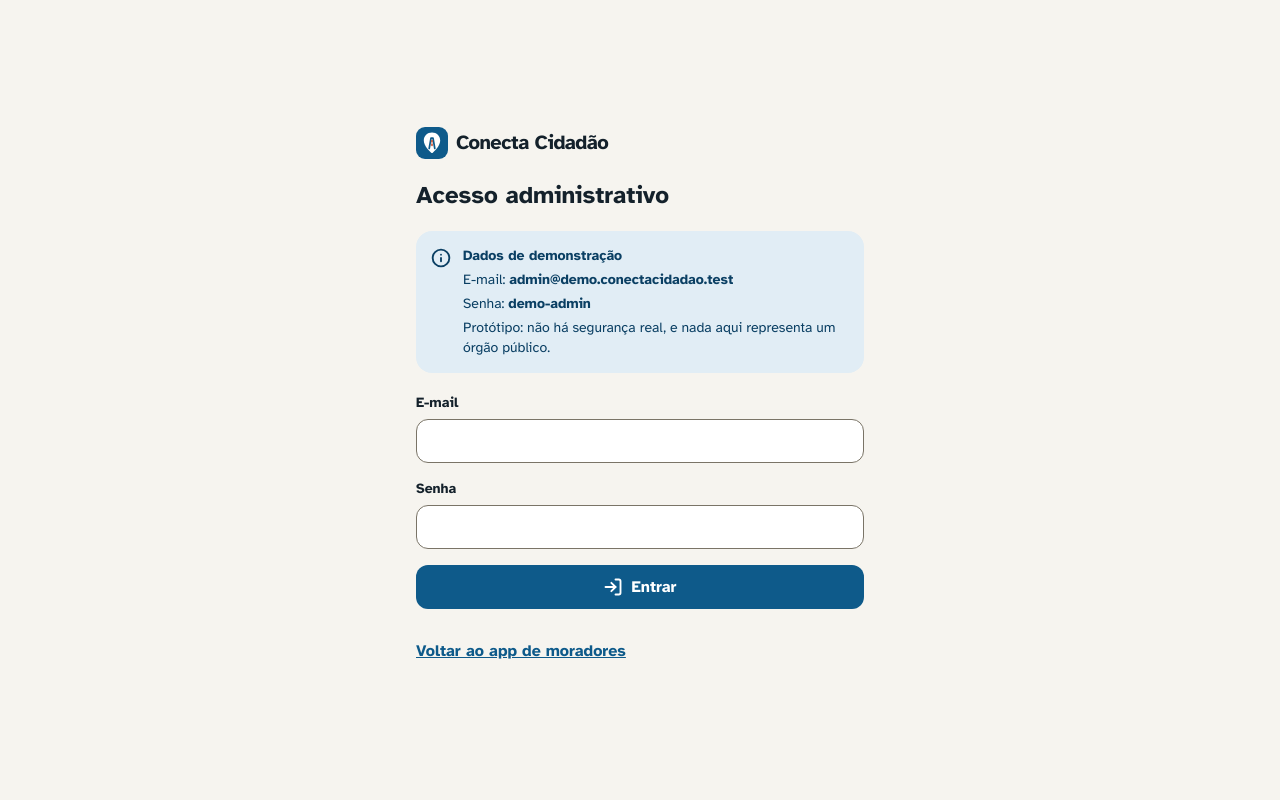
acesso administrativo › senha errada é recusada; senha de demonstração abre o painel; sair volta ao login
In the field labelled "E-mail": (640, 441) [416,419,864,463], type "admin@demo.conectacidadao.test"
In the password field labelled "Senha": (640, 527) [416,505,864,549], type "errada"
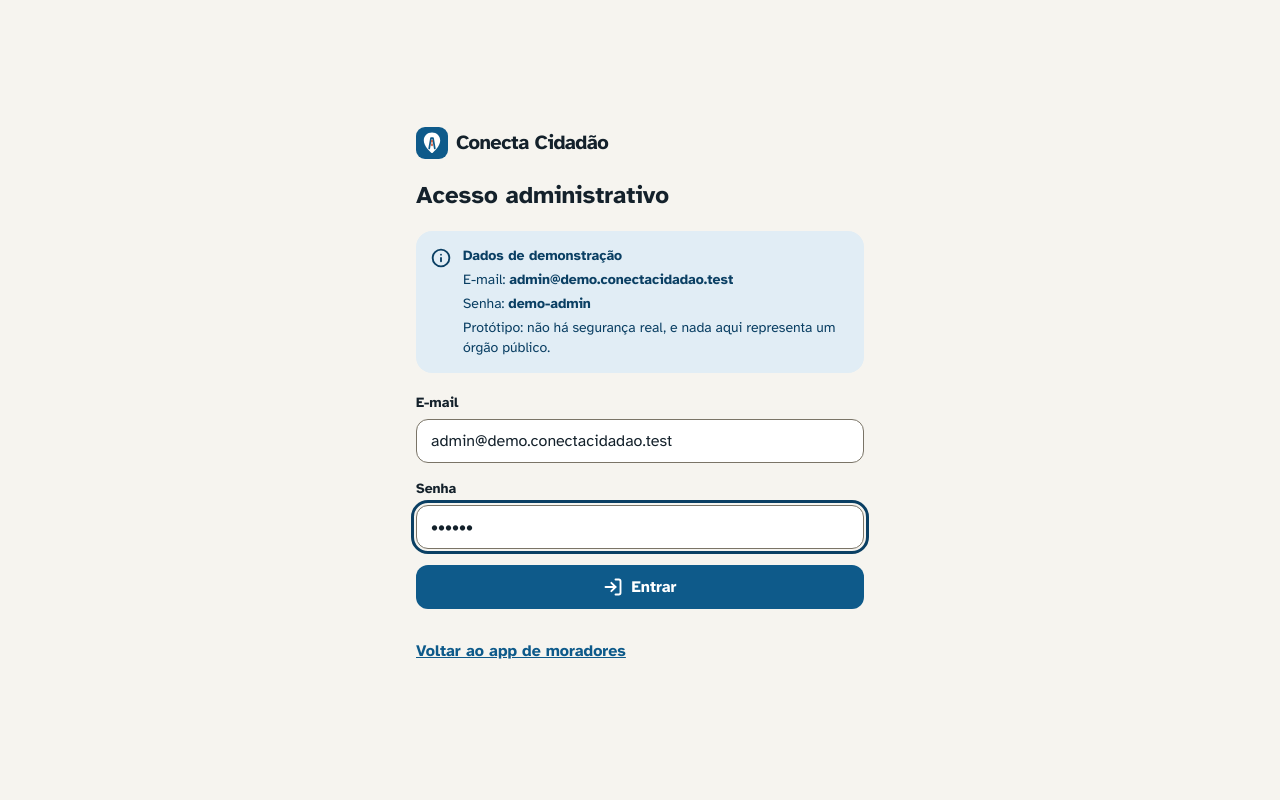
Click the button "Entrar": click(640, 587) [416,565,864,609]
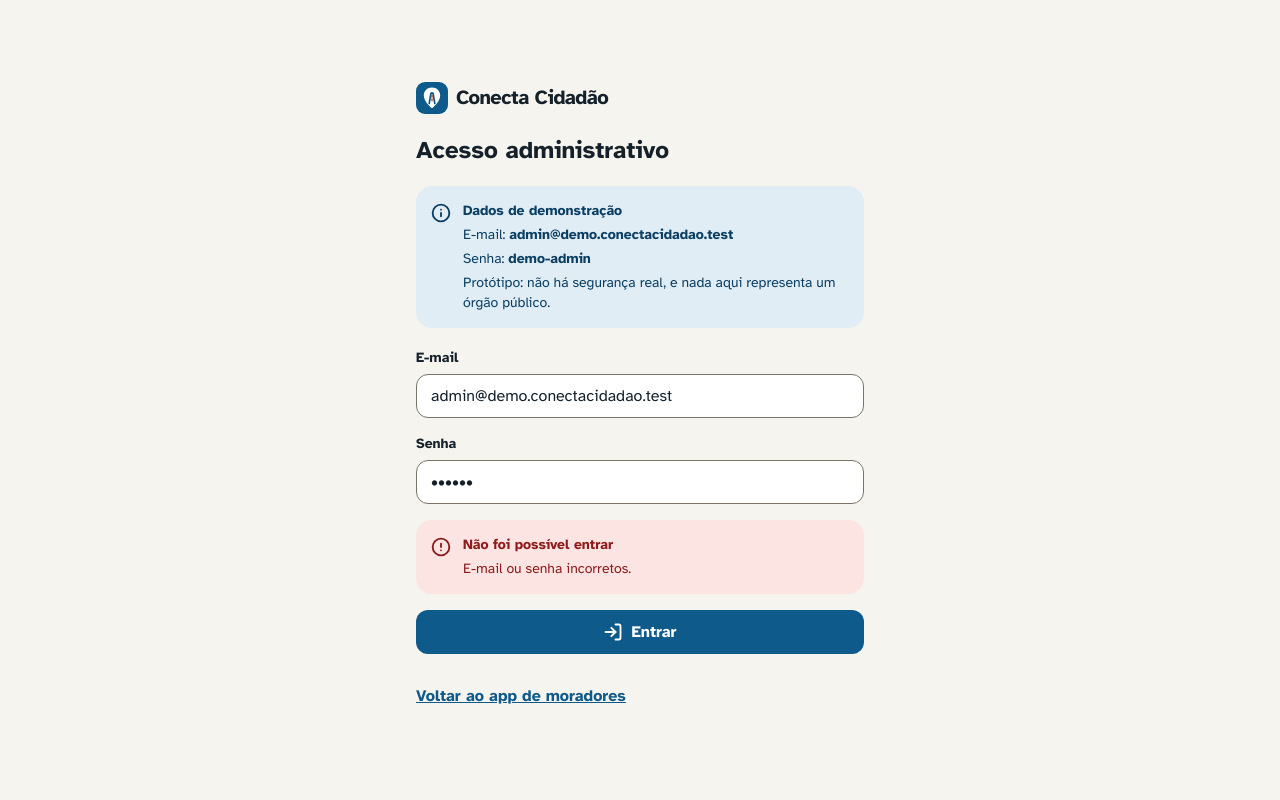
Now the text "E-mail ou senha incorretos." is shown, box [463,559,631,579]
Clear the password field labelled "Senha": (640, 482) [416,460,864,504]
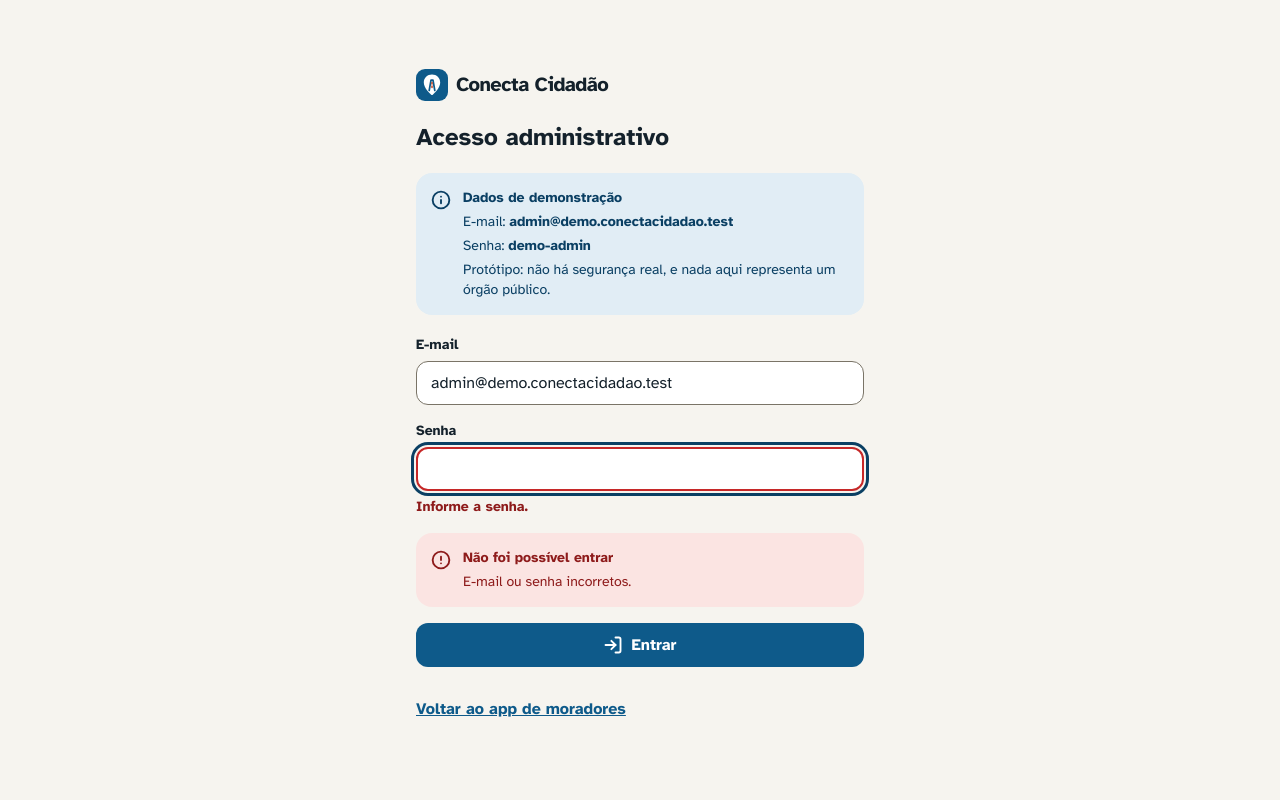
In the password field labelled "Senha": (640, 469) [416,447,864,491], type "demo-admin"
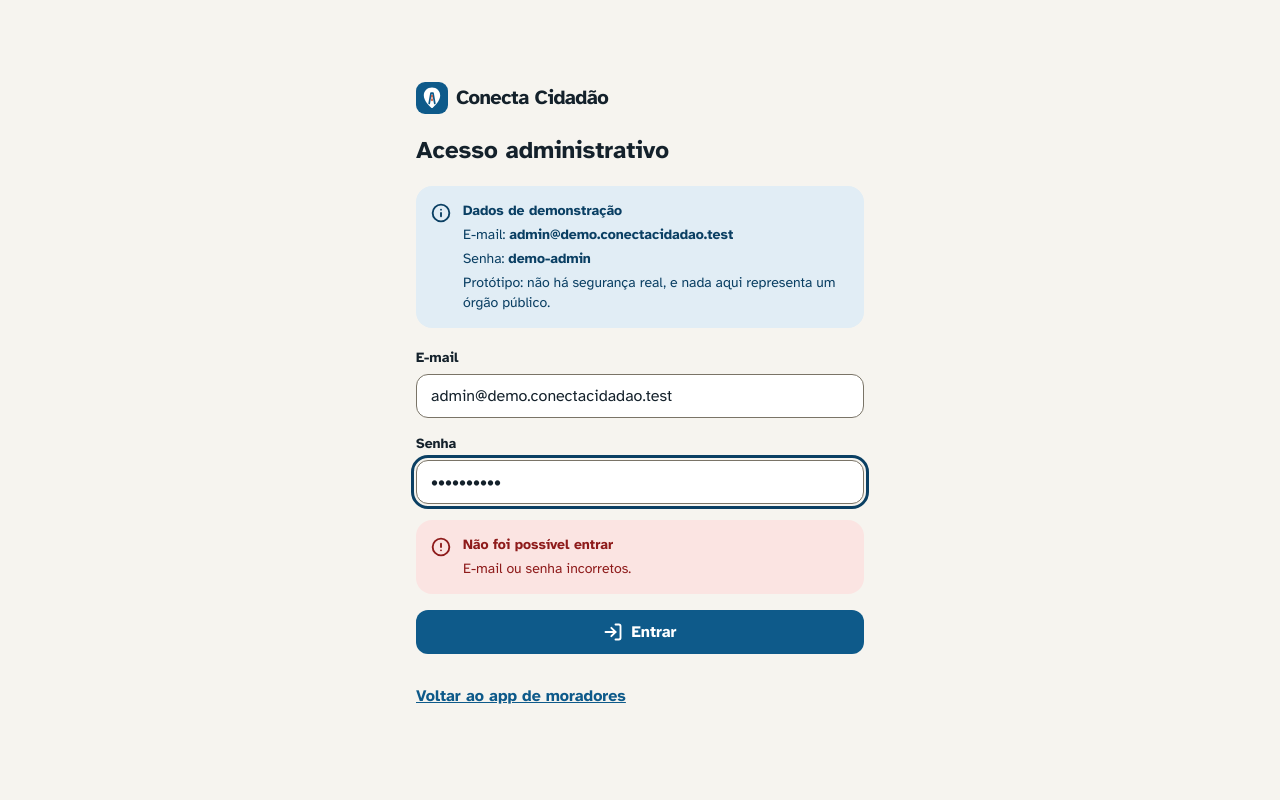
Click the button "Entrar": click(640, 632) [416,610,864,654]
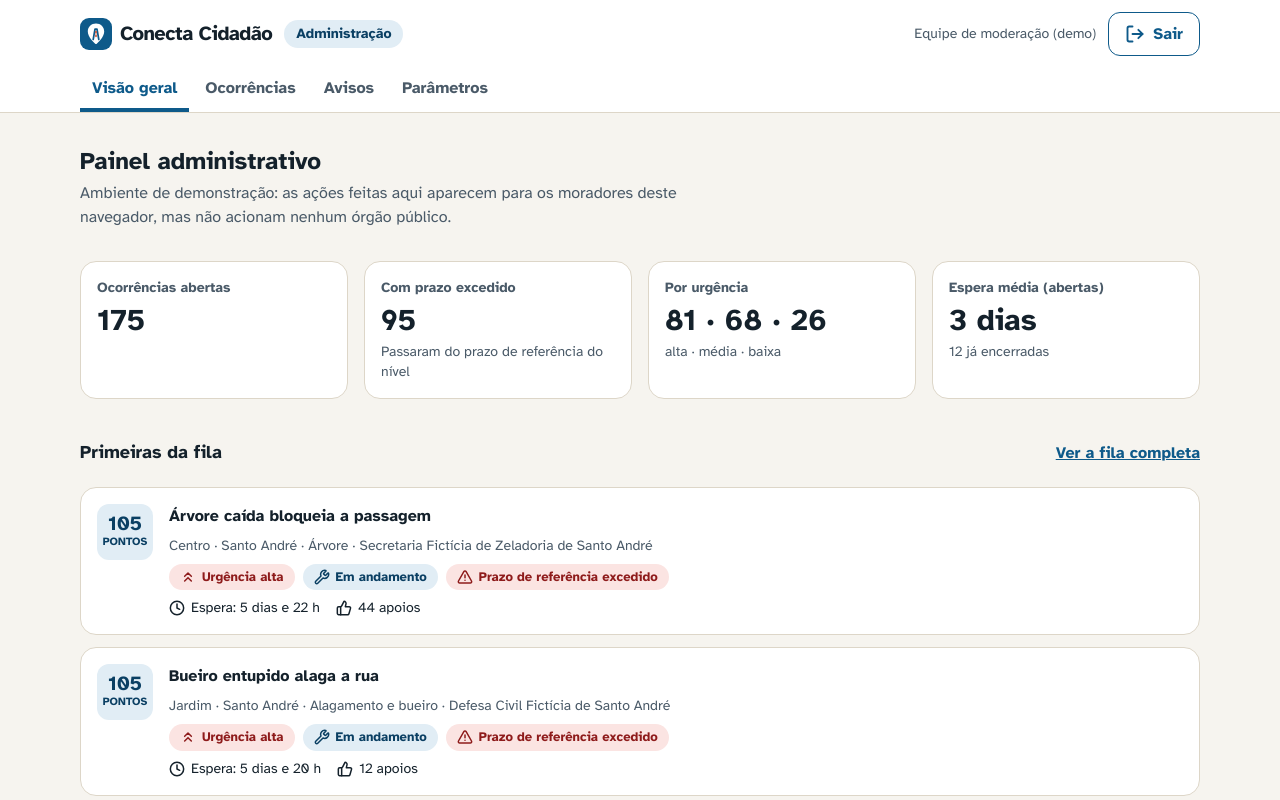
Now the heading "Painel administrativo" is shown, box [80,146,321,176]
Click the button "Sair": click(1154, 34) [1108,12,1200,56]
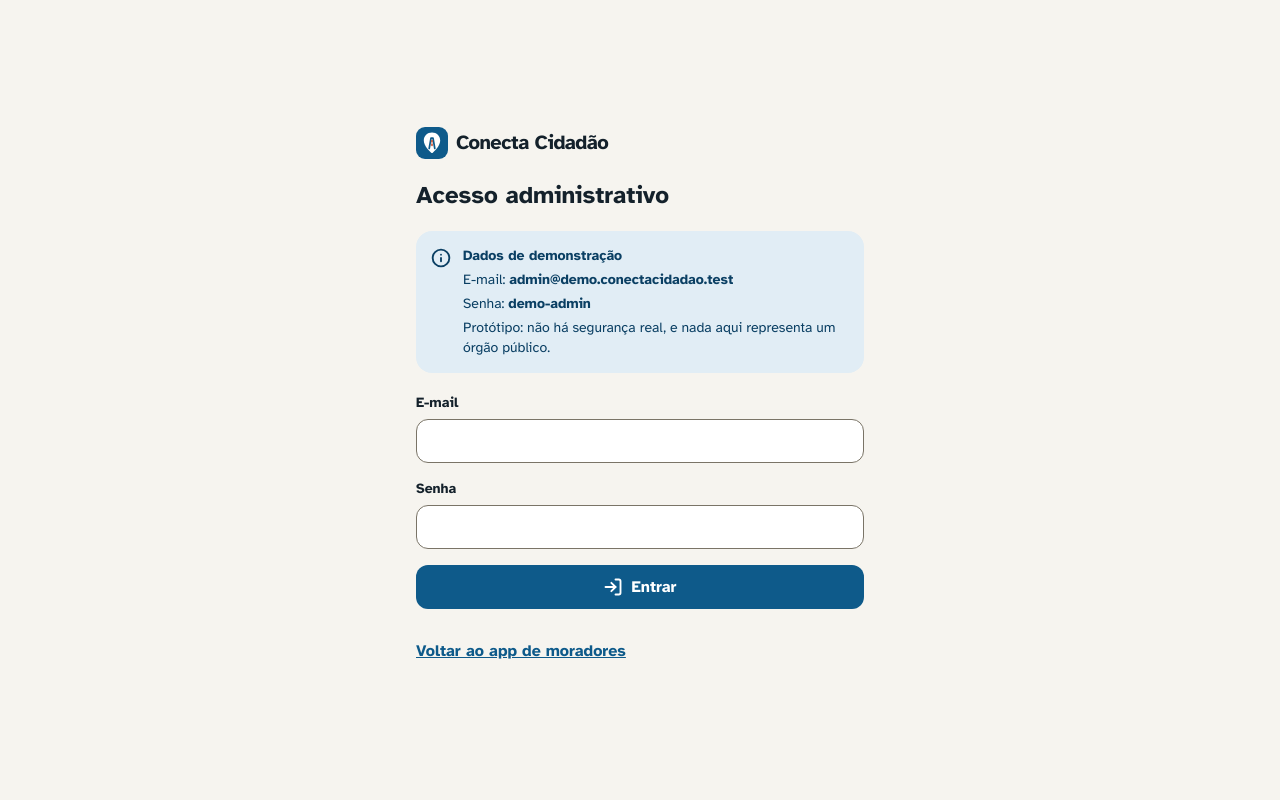
Now the heading "Acesso administrativo" is shown, box [416,180,669,210]
